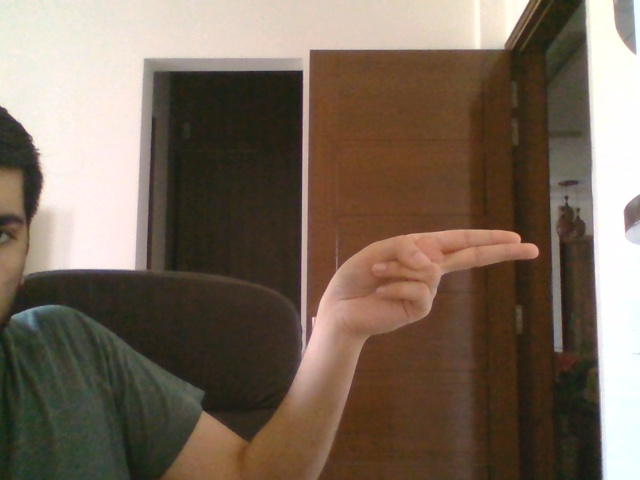LetterH: (319, 228, 540, 339)
